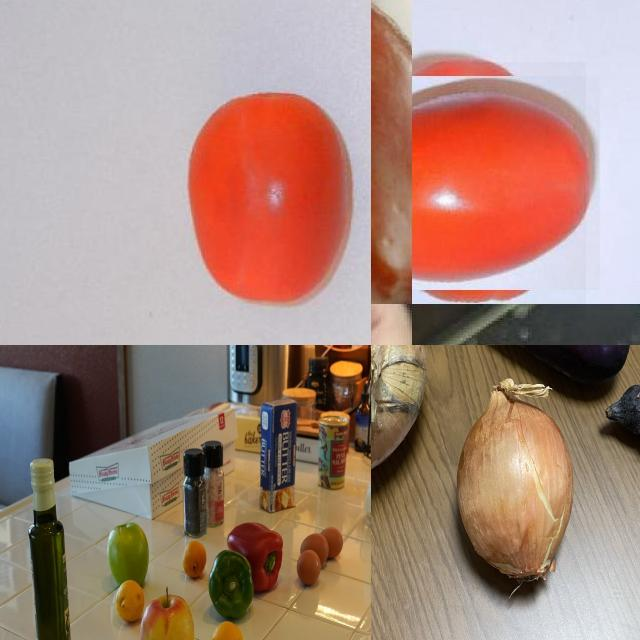bell_pepper: (226, 519, 286, 591), (208, 549, 260, 627), (180, 448, 210, 532)
egg: (301, 535, 335, 573), (296, 551, 326, 593), (320, 526, 346, 563)
eggplant: (470, 346, 637, 391)
onion: (456, 390, 576, 595), (362, 472, 372, 527)
tomato: (169, 78, 369, 324), (413, 63, 586, 305)
